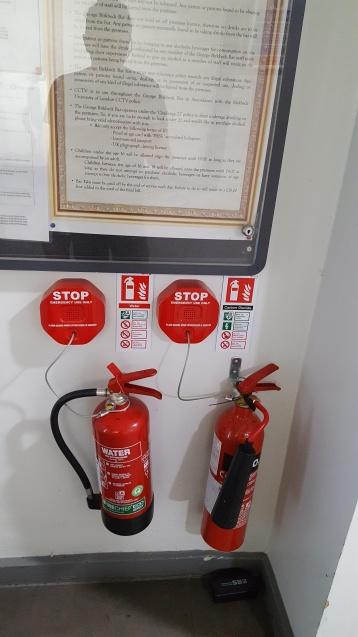APAR: (198, 361, 281, 550), (93, 366, 161, 535)
